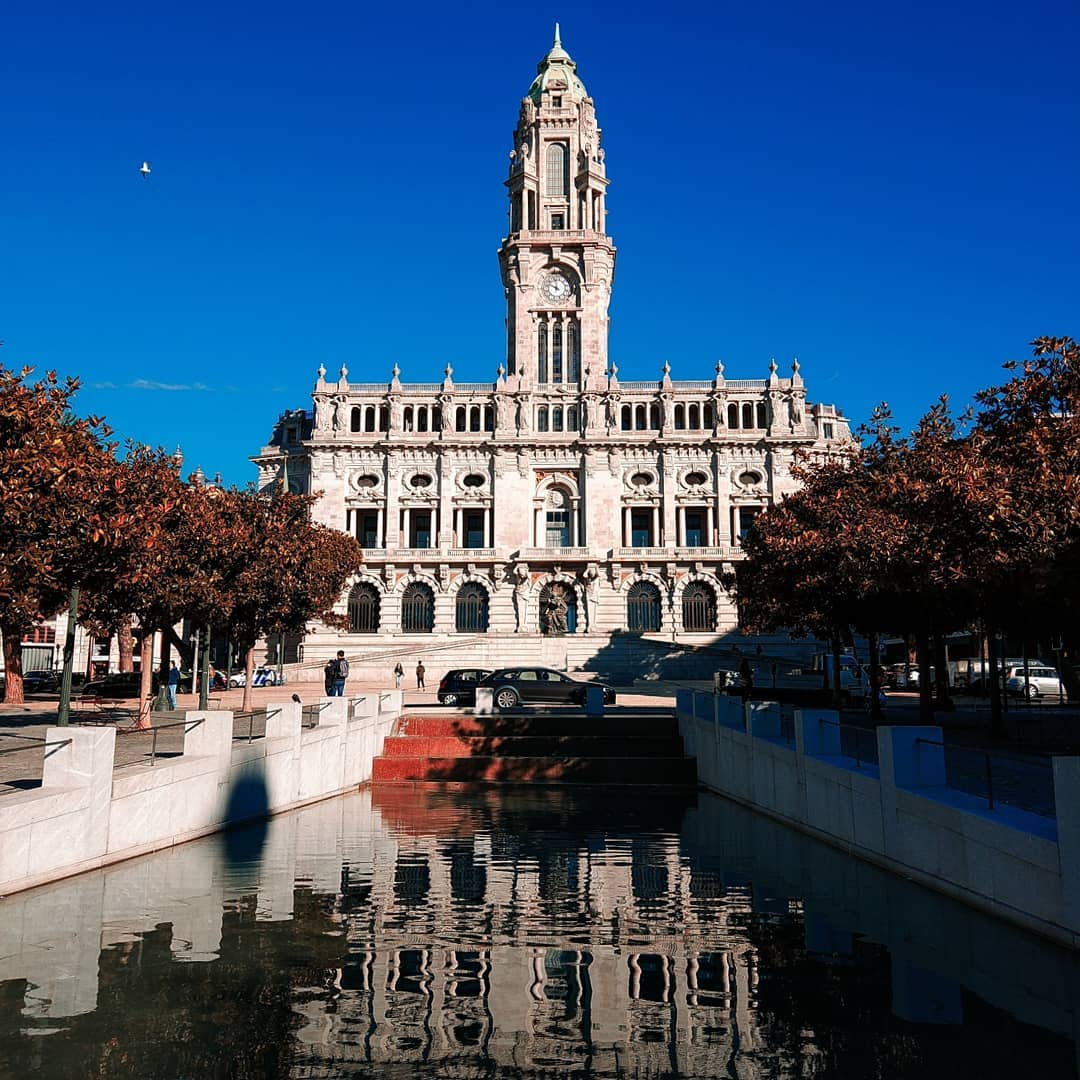camara: (242, 19, 860, 670)
